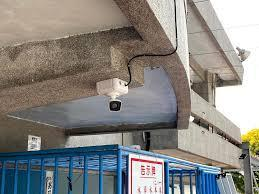Monitor: (92, 73, 145, 125)
